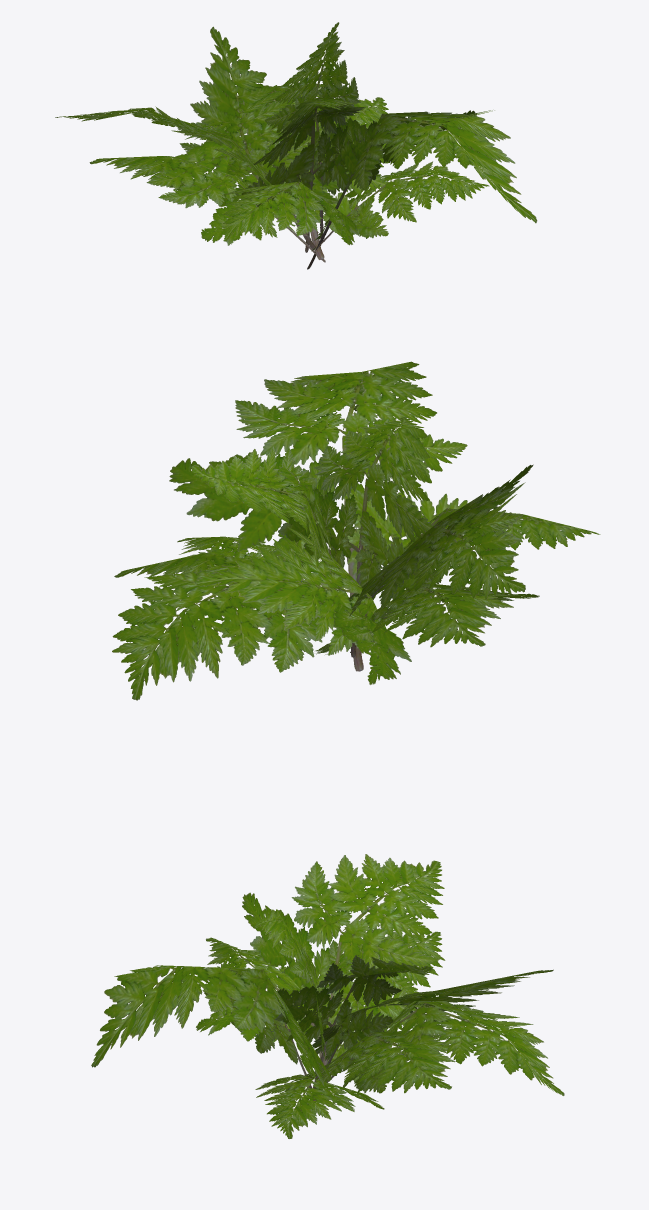
Rendered from bush2.obj.
3 renders of one model, top to bottom at view 1: azimuth 30°, elevation 25°; view 2: azimuth 150°, elevation 25°; view 3: azimuth 270°, elevation 25°, orthographic. The views are drawn at different scales.
Parts seen in each view (by area): view 1: bush_01_Plane.010; view 2: bush_01_Plane.010; view 3: bush_01_Plane.010.
Part boxes in pixels (x1,y1,x2,y2): bush_01_Plane.010: [55, 22, 537, 269]; bush_01_Plane.010: [112, 361, 600, 700]; bush_01_Plane.010: [91, 854, 564, 1138].
Size of the model in its own units: 11.06 by 5.13 by 12.66.
